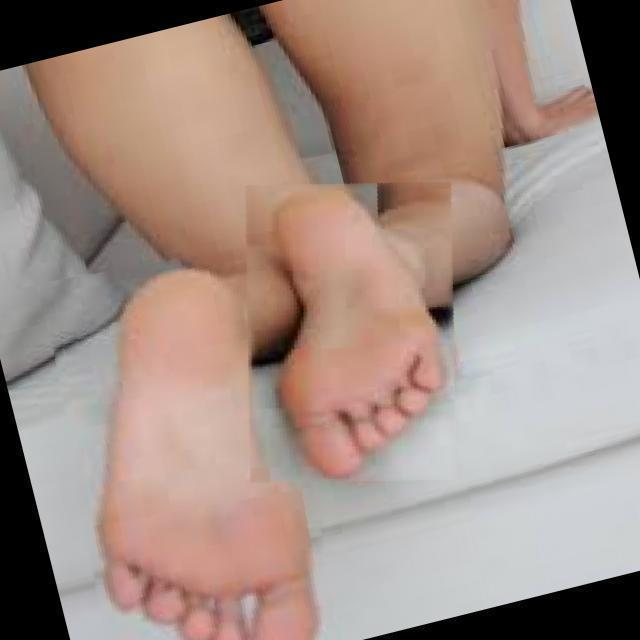No_Shoes: (72, 274, 315, 640), (249, 186, 455, 450)
